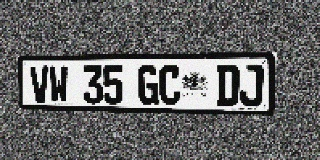3: (83, 66, 103, 104)
5: (103, 65, 124, 104)
C: (159, 65, 180, 105)
D: (216, 65, 239, 106)
G: (138, 65, 159, 105)
J: (239, 65, 263, 107)
V: (30, 66, 50, 103)
W: (49, 66, 69, 103)
